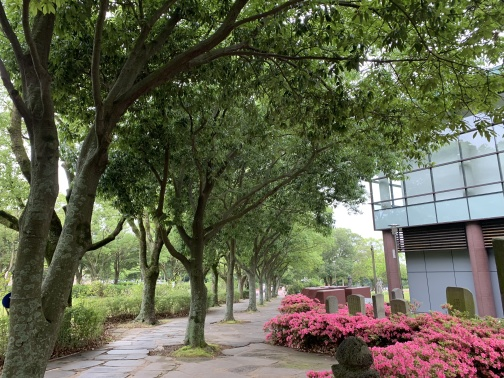Museum: (363, 109, 504, 315)
